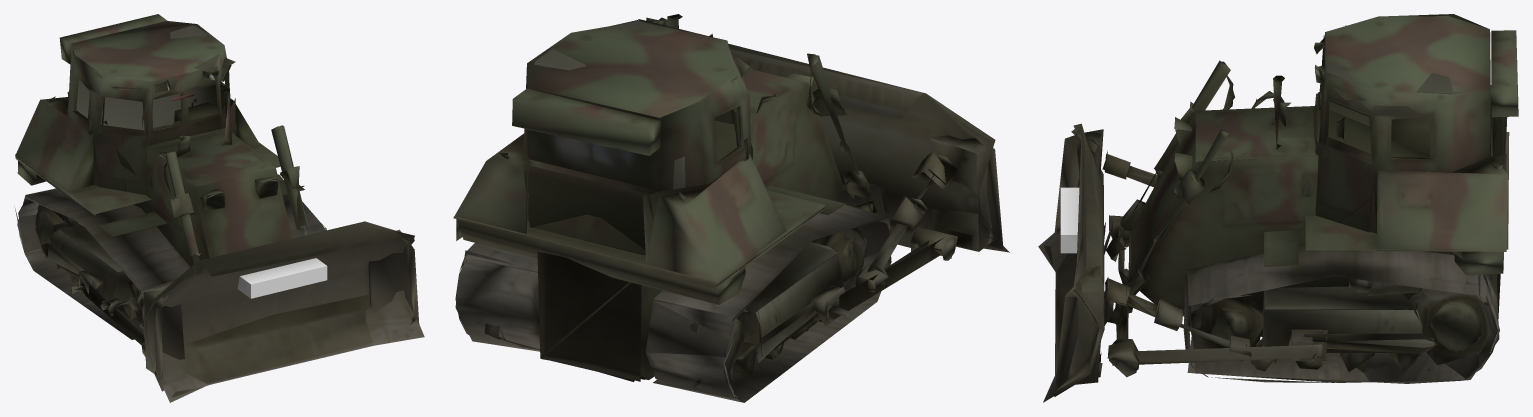
The model's file is cn-dozer.glb.
3 views of the same model, side by side, from view 1: azimuth 30°, elevation 25°; view 2: azimuth 150°, elevation 25°; view 3: azimuth 270°, elevation 25° (orthographic). The views are drawn at different scales.
Visible parts, largest first — view 1: cn-dozer; view 2: cn-dozer; view 3: cn-dozer.
Part boxes in pixels (bbox=[...]): cn-dozer: bbox=[15, 14, 424, 402]; cn-dozer: bbox=[453, 14, 1009, 402]; cn-dozer: bbox=[1038, 14, 1518, 402].
Size of the model in its own units: 0.688 by 0.54 by 0.86.
Materials: 2 (1 with a texture image).
